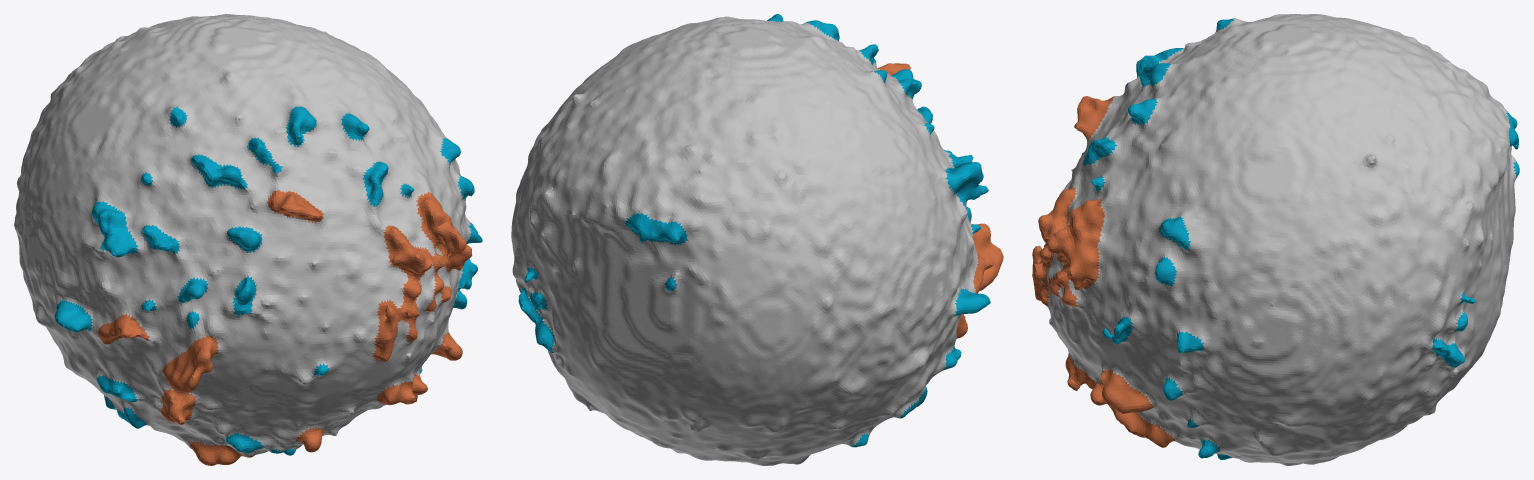
The picture shows the model from 3 angles, left to right: view 1: azimuth 30°, elevation 25°; view 2: azimuth 150°, elevation 25°; view 3: azimuth 270°, elevation 25°; orthographic projection. The views are drawn at different scales.
Size of the model in its own units: 131 by 124 by 132.
